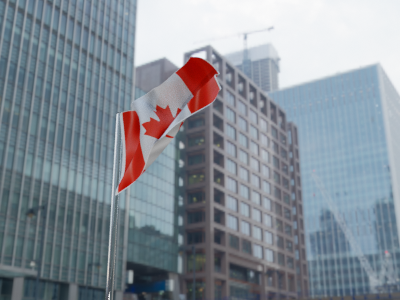Canada flag: (115, 54, 222, 196)
